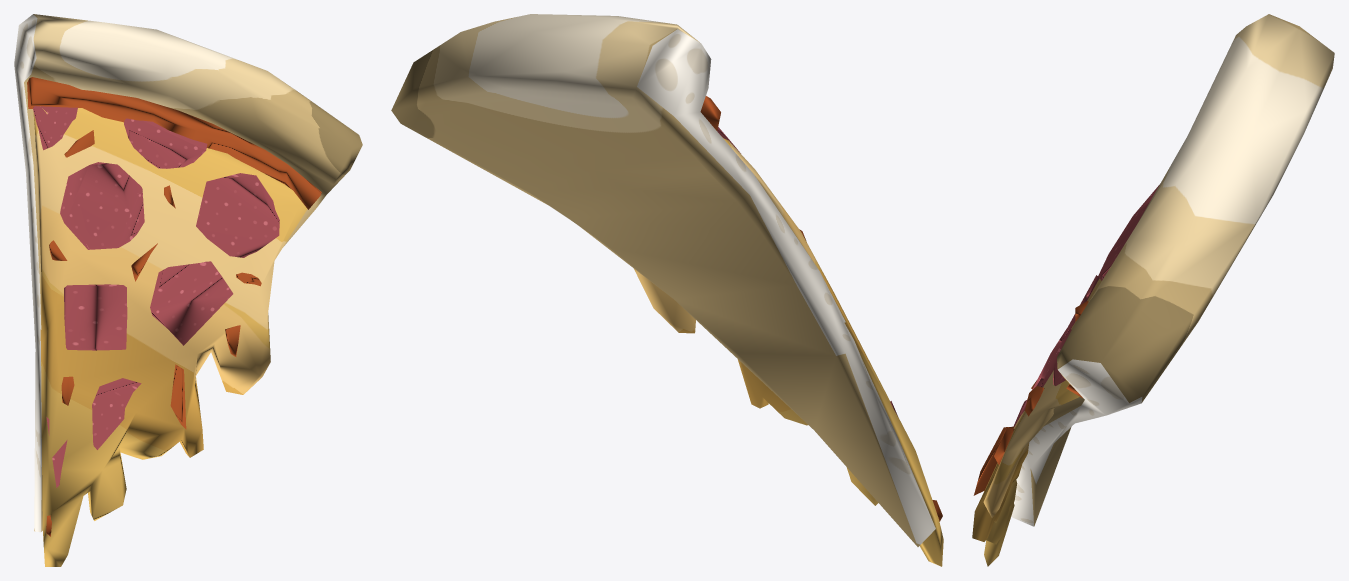
File: pizza-v1.glb
3 views of the same model, side by side, from view 1: azimuth 30°, elevation 25°; view 2: azimuth 150°, elevation 25°; view 3: azimuth 270°, elevation 25° (orthographic). The views are drawn at different scales.
Parts seen in each view (by area): view 1: Cheese_4; view 2: Cheese_4; view 3: Cheese_4.
Boxes of the visible parts, x1,y1,x2,y2 form: Cheese_4: (14, 14, 362, 566); Cheese_4: (391, 14, 943, 566); Cheese_4: (972, 14, 1334, 566).
Bounding box in the file's own units: 3.96 × 4.83 × 2.62.
Materials: 4 (3 with a texture image).
